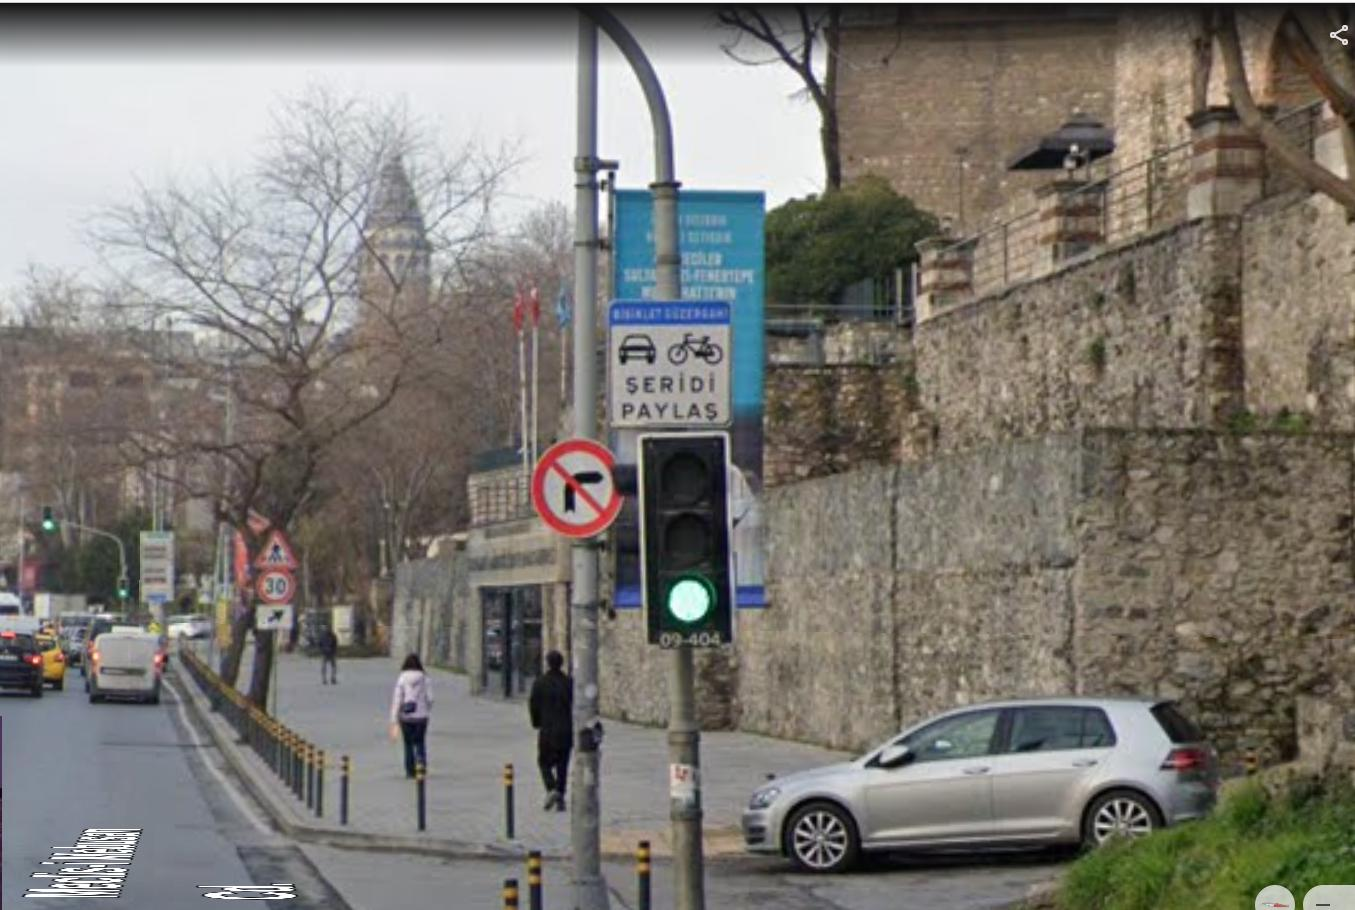greenlight: (644, 439, 735, 644)
rightturnsareforbidden: (532, 436, 619, 534)
